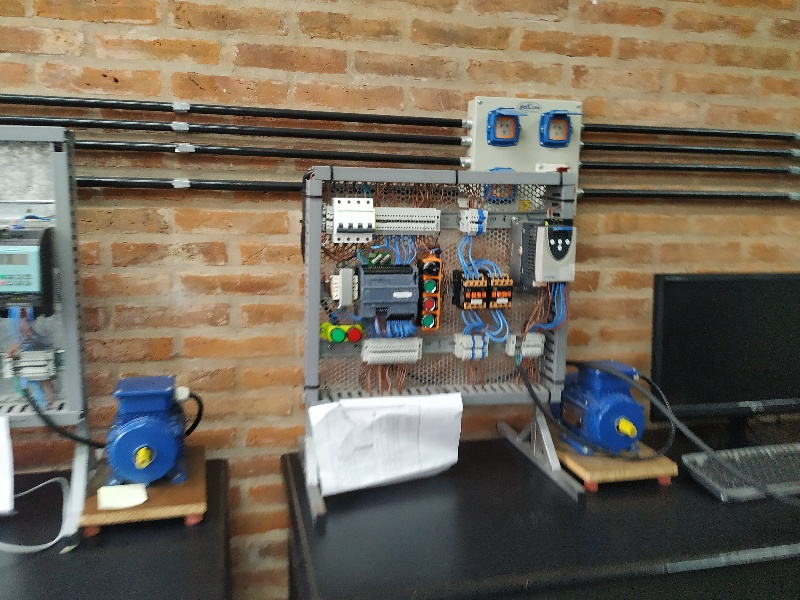Tablero 4: (314, 174, 577, 409)
